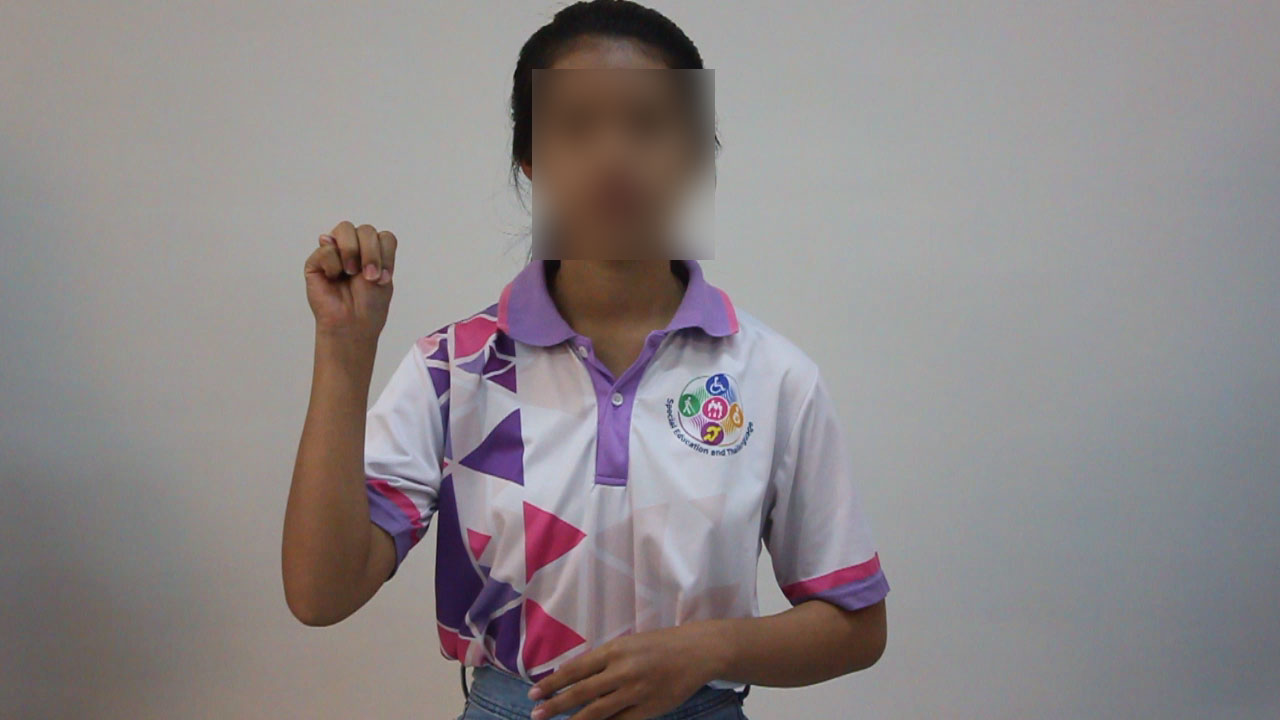mor: (289, 207, 413, 356)
